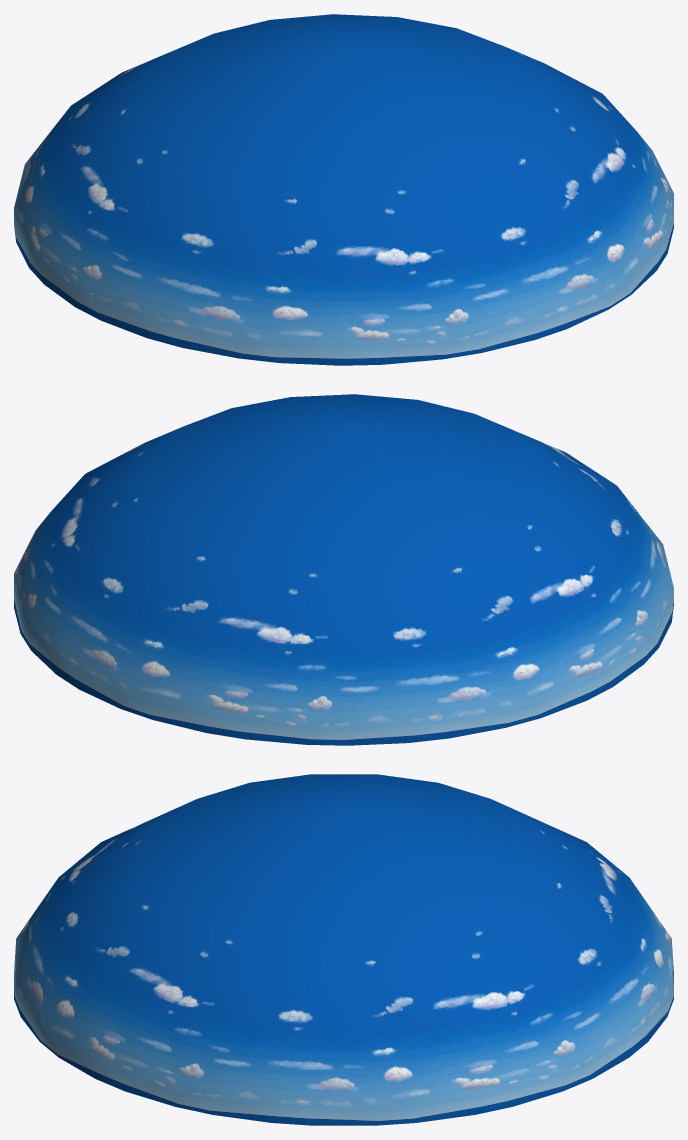
The model's file is PeachBeachMap.fbx.
3 renders of one model, top to bottom at view 1: azimuth 30°, elevation 25°; view 2: azimuth 150°, elevation 25°; view 3: azimuth 270°, elevation 25°, orthographic.
Visible parts, largest first — view 1: m1; view 2: m1; view 3: m1.
Boxes of the visible parts, bbox=[...] form: m1: bbox=[14, 14, 673, 365]; m1: bbox=[14, 394, 673, 745]; m1: bbox=[14, 774, 673, 1125].
Size of the model in its own units: 260799 by 79722 by 260798.
Materials: 16 (16 with a texture image).
